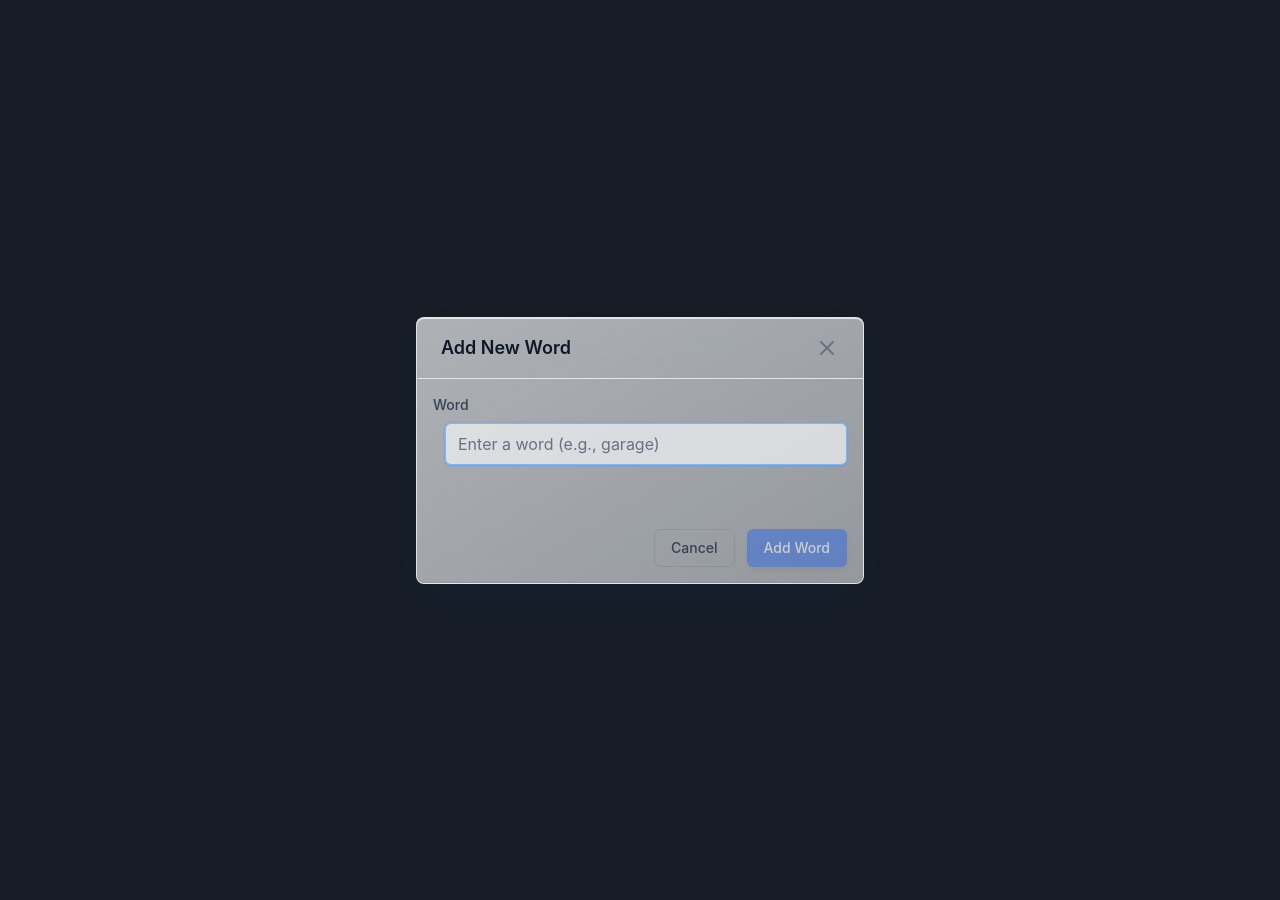
Test case: WordFormModal › blocks submission and shows an error when the word already exists
This screenshot has width=1280, height=900.
Type "banana" into the field labelled "Word".
click(646, 444); type("banana")  # box [445,422,847,464]
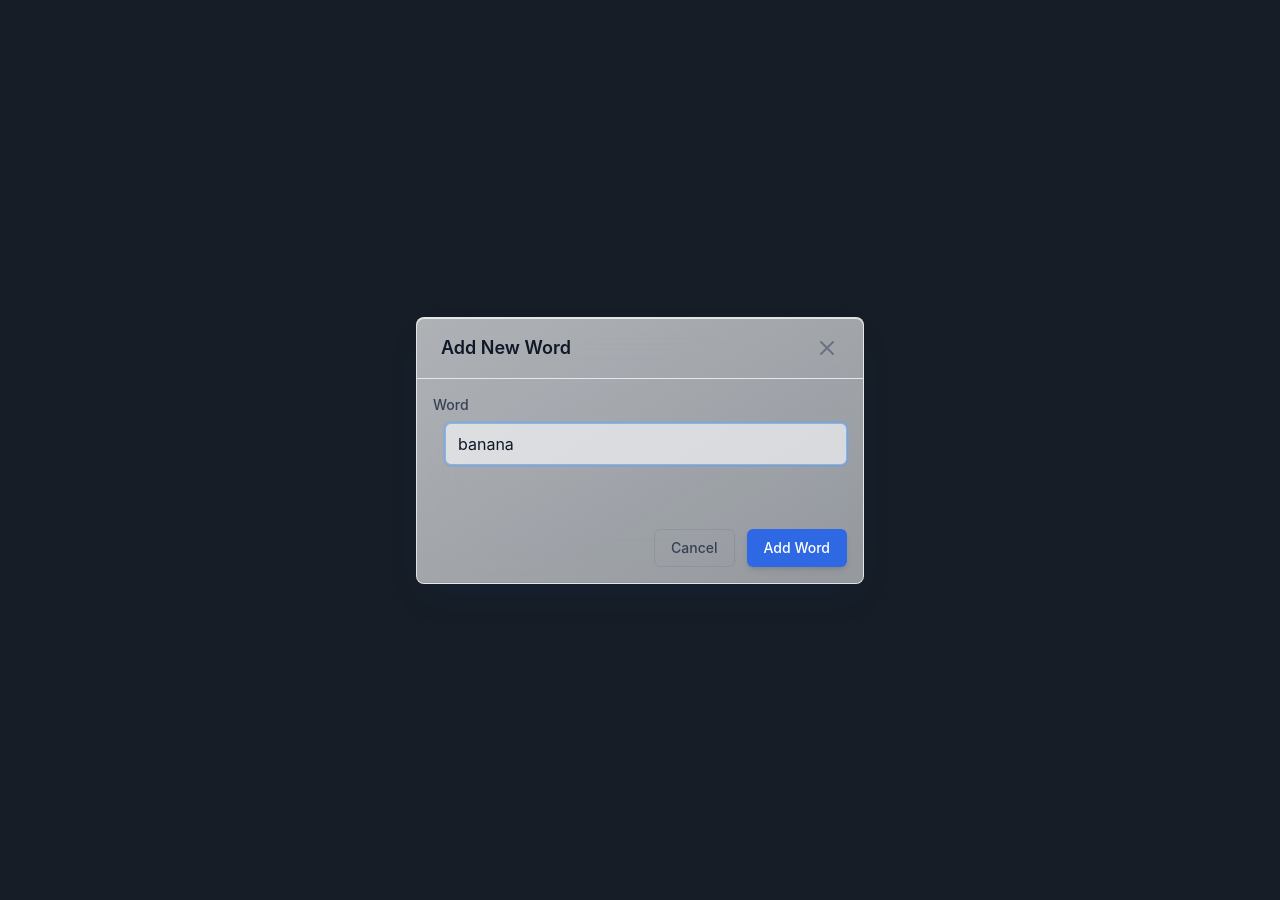
Click the button "Add Word".
click(797, 548)  # box [746,528,847,566]
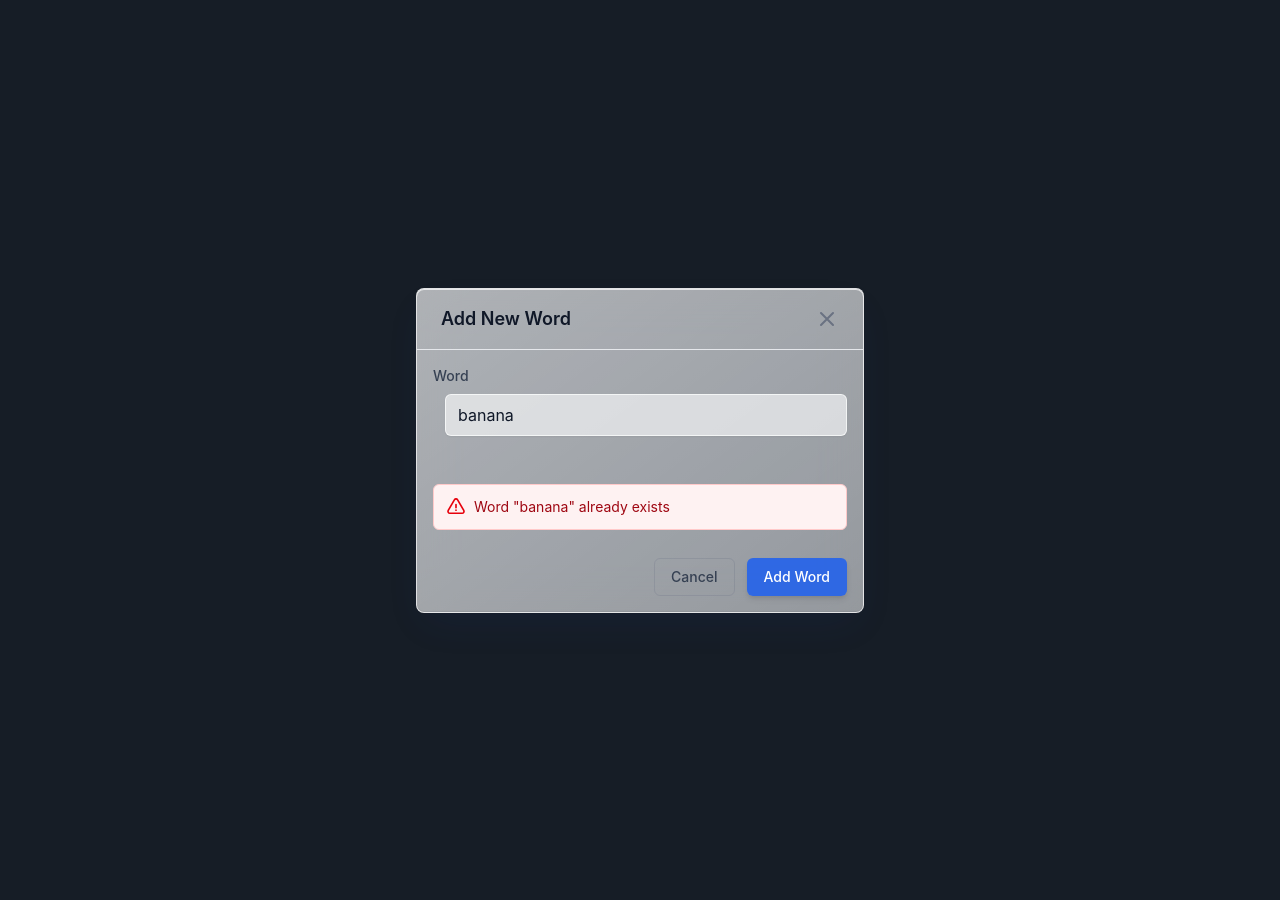
Expected: the text "Word \"banana\" already exists" is shown, [474,496,670,516]
